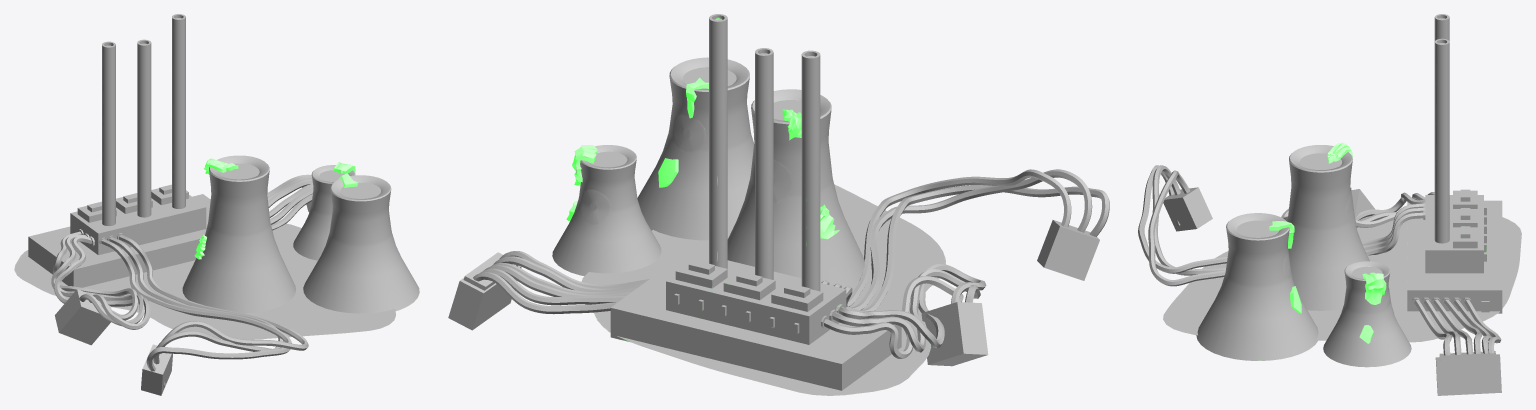
The model's file is Usina.fbx.
3 renders of one model, left to right at view 1: azimuth 30°, elevation 25°; view 2: azimuth 150°, elevation 25°; view 3: azimuth 270°, elevation 25°, orthographic. The views are drawn at different scales.
Parts seen in each view (by area): view 1: Usina; view 2: Usina; view 3: Usina.
Boxes of the visible parts, left/top/right/bottom form: Usina: left=14, top=14, right=419, bottom=395; Usina: left=448, top=14, right=1109, bottom=395; Usina: left=1138, top=14, right=1521, bottom=395.
Size of the model in its own units: 16.5 by 12.21 by 15.36.
